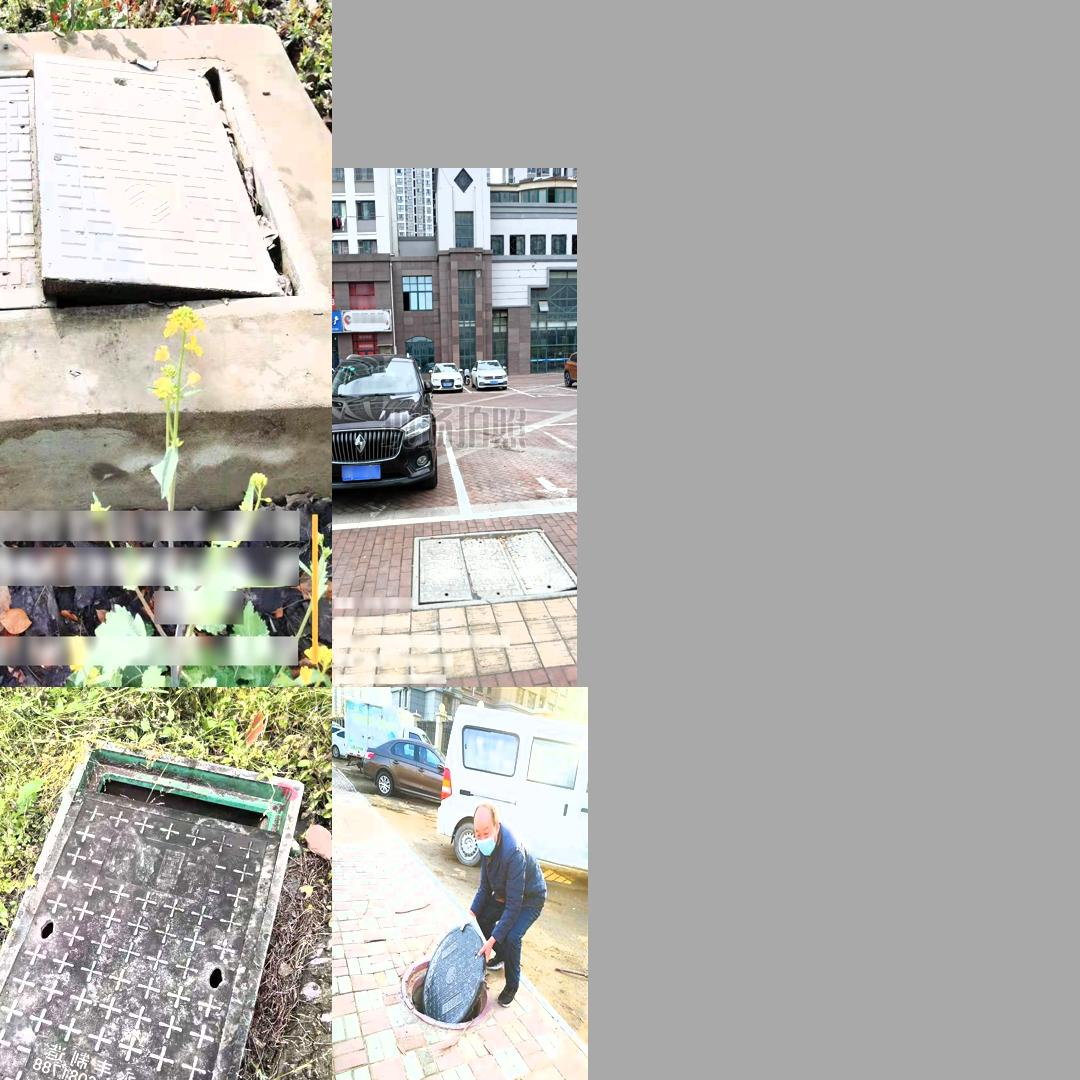uncovered: (0, 736, 304, 1080), (0, 49, 330, 336), (390, 909, 496, 1042), (409, 528, 577, 608)
